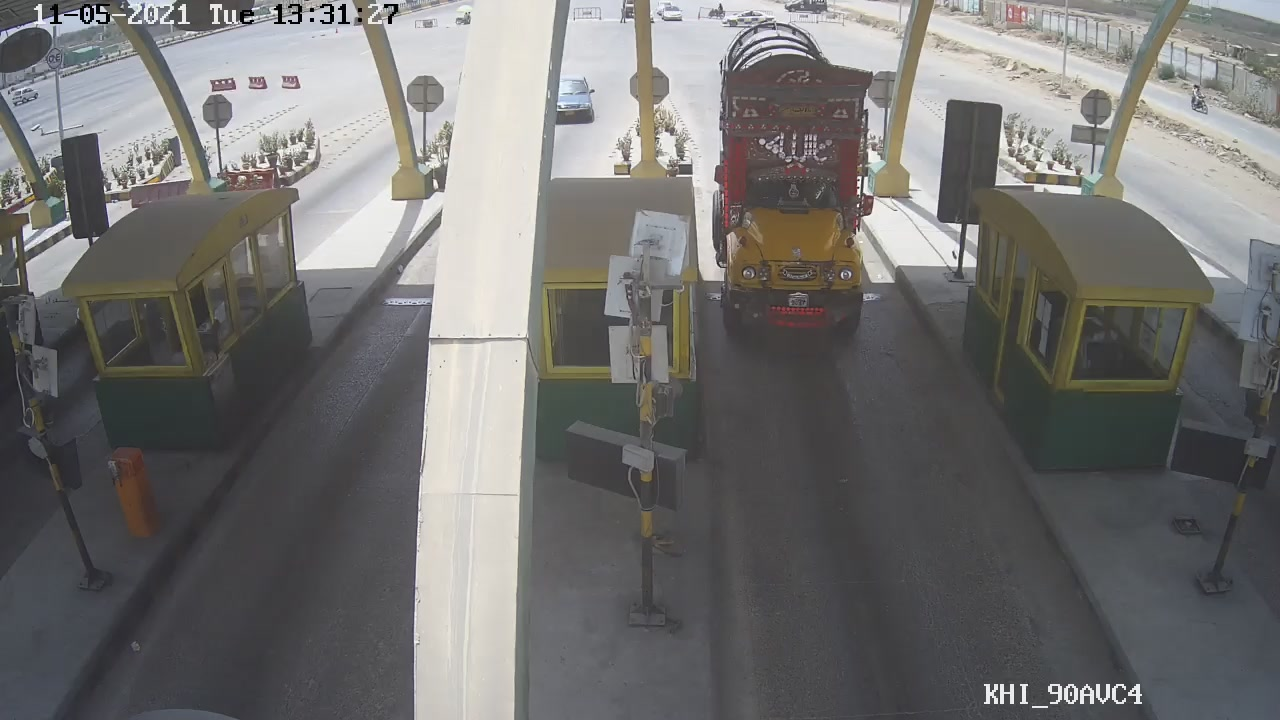F5: (710, 43, 874, 343)
